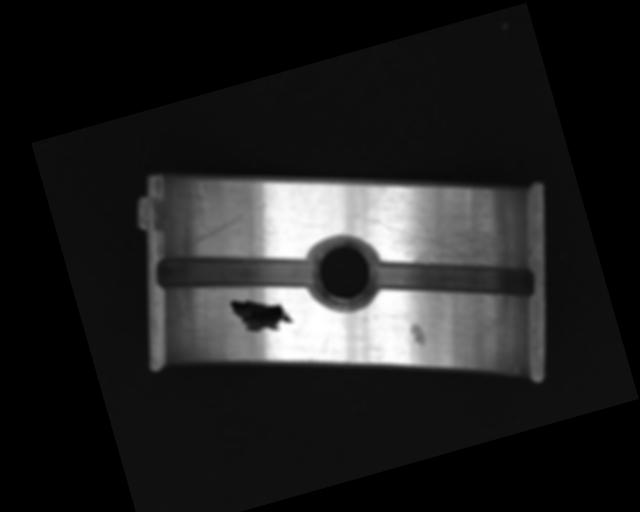blot: (228, 283, 295, 342)
bruise: (408, 321, 428, 349)
gap: (369, 221, 538, 335), (152, 220, 319, 326)
hole: (301, 229, 390, 316)
nick: (187, 200, 272, 244)
scratch: (371, 181, 529, 299)
